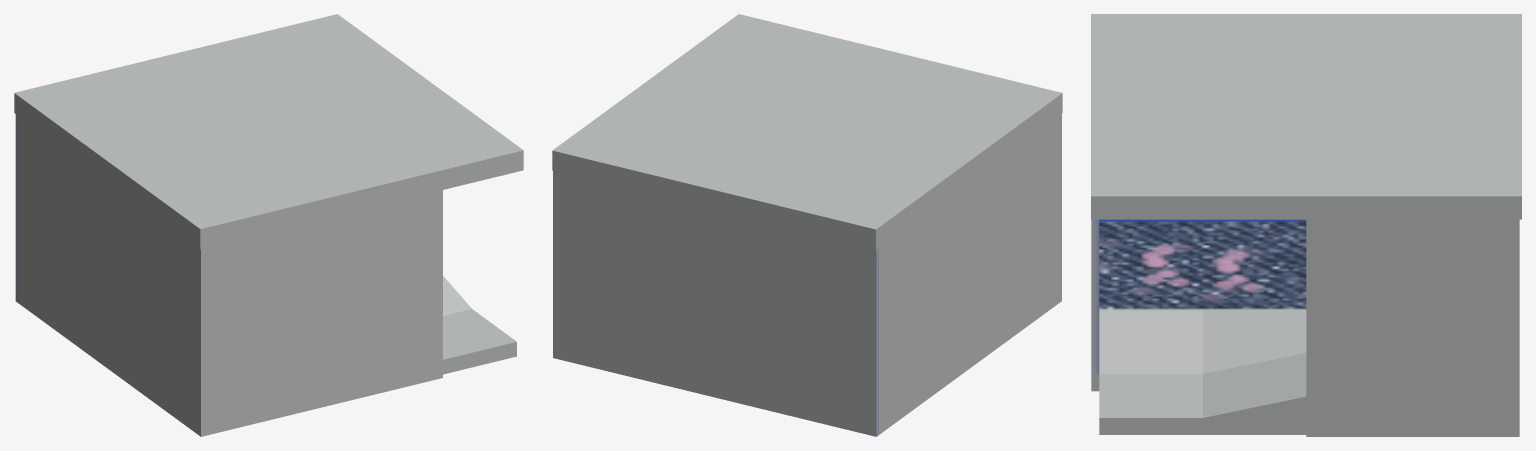
File: POD.glb
3 renders of one model, left to right at view 1: azimuth 30°, elevation 25°; view 2: azimuth 150°, elevation 25°; view 3: azimuth 270°, elevation 25°, orthographic. The views are drawn at different scales.
Visible parts, largest first — view 1: Cube, Cube.001; view 2: Cube, Cube.001; view 3: Cube, Cube.001.
Part boxes in pixels (bbox=[...]): Cube: bbox=[15, 114, 516, 436]; Cube.001: bbox=[14, 14, 523, 248]; Cube: bbox=[553, 114, 1061, 436]; Cube.001: bbox=[552, 14, 1062, 249]; Cube: bbox=[1091, 218, 1519, 436]; Cube.001: bbox=[1091, 14, 1521, 219].
Bounding box in the file's own units: 12.56 × 7.72 × 12.53.
Materials: 2 (2 with a texture image).
